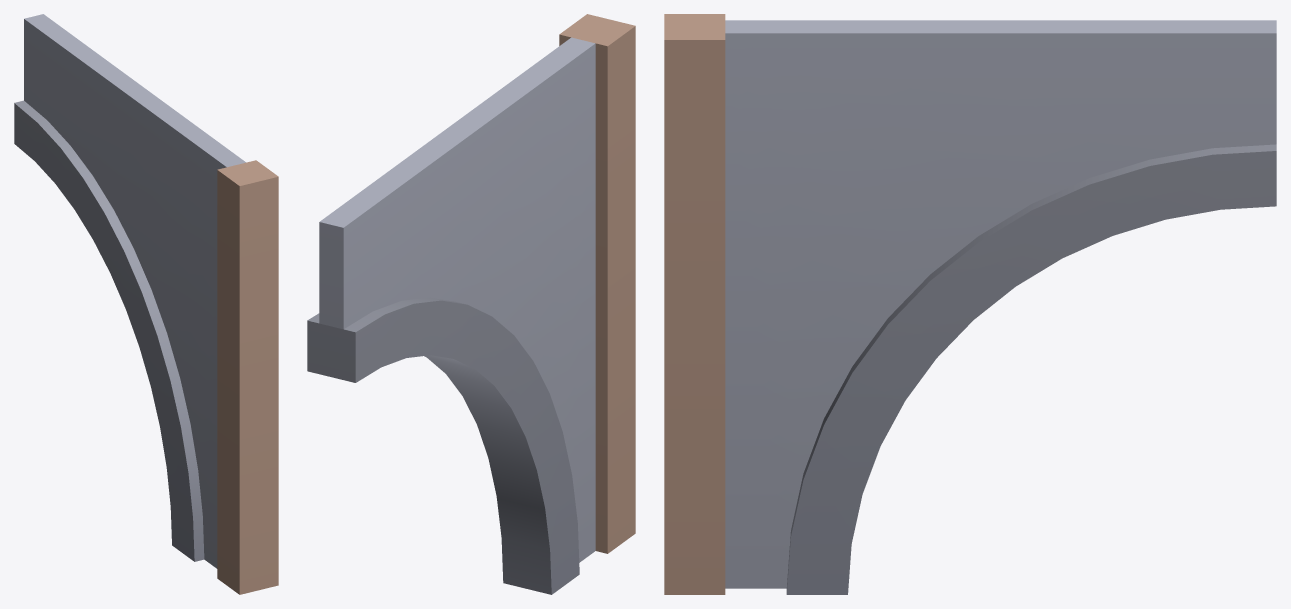
Rendered from wall-arch-top.glb.
The picture shows the model from 3 angles, left to right: view 1: azimuth 30°, elevation 25°; view 2: azimuth 150°, elevation 25°; view 3: azimuth 270°, elevation 25°; orthographic projection. The views are drawn at different scales.
Visible parts, largest first — view 1: wall-arch-top; view 2: wall-arch-top; view 3: wall-arch-top.
Boxes of the visible parts, x1,y1,x2,y2 form: wall-arch-top: (14,14,278,594); wall-arch-top: (307,14,635,594); wall-arch-top: (664,14,1276,594).
Bounding box in the file's own units: 0.1 × 1 × 1.
